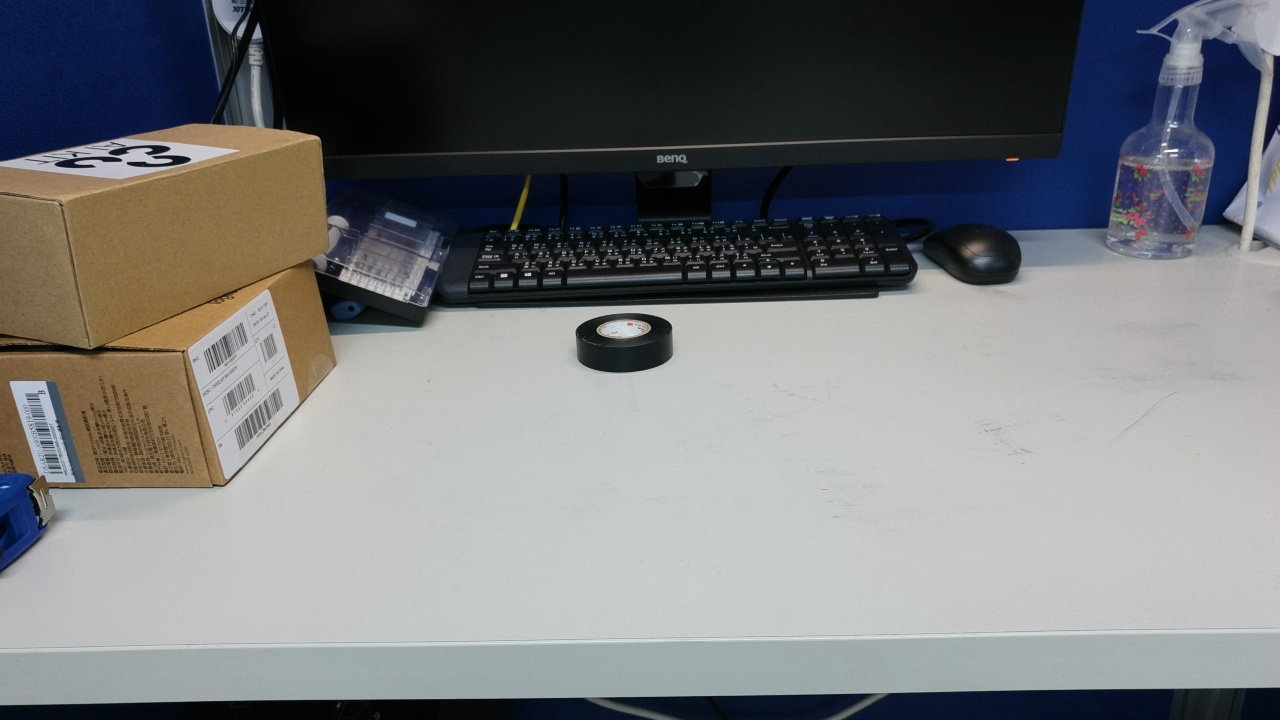columnar: (337, 195, 568, 564)
